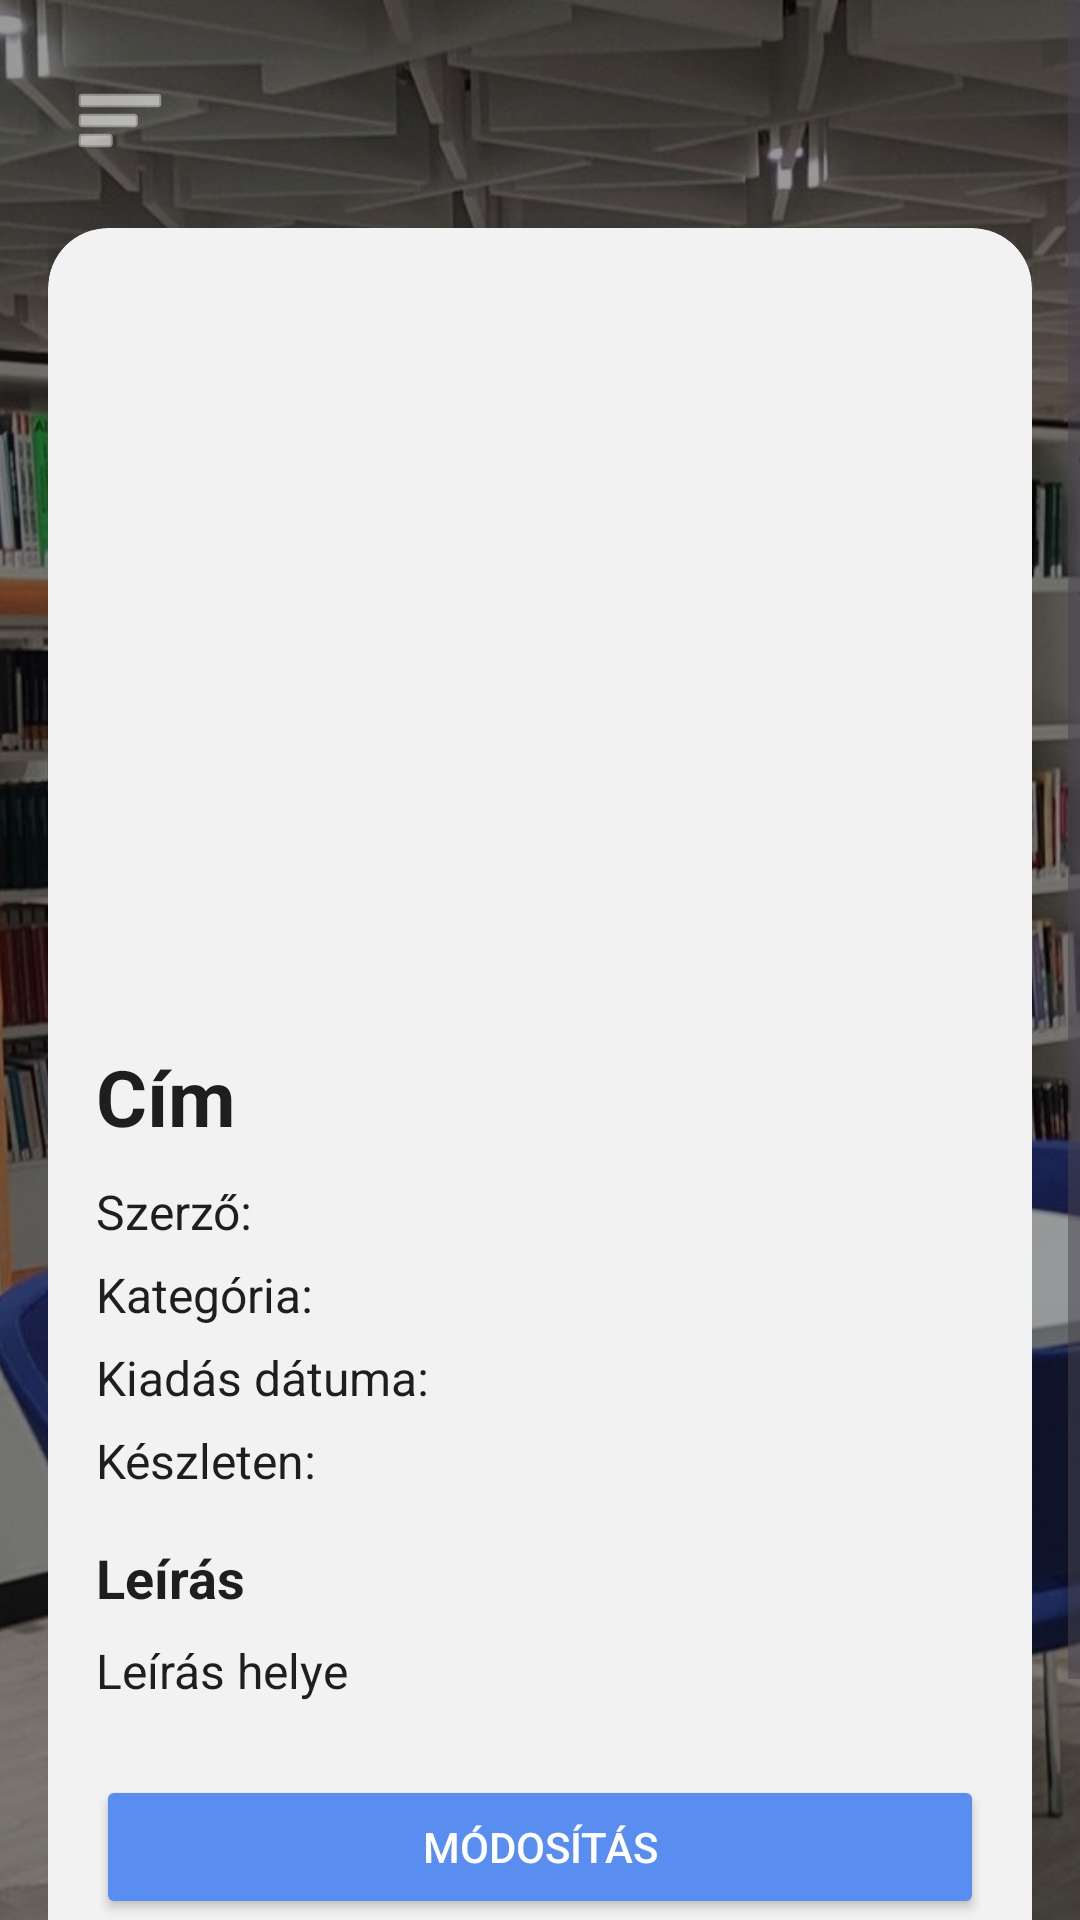

Screen size 1080 × 1920. Icon name, then its center in pixels as point (x, y):
Menü: point (109, 142)
